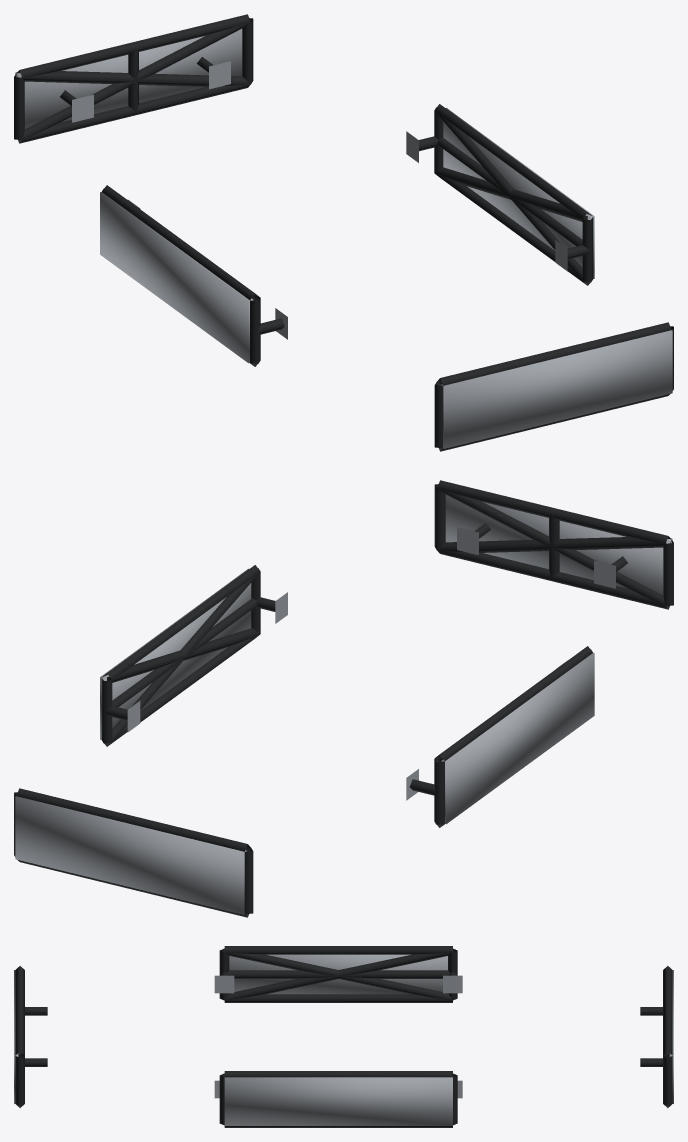
File: volnar_bolota_protecao.glb
3 views of the same model, one above another, from view 1: azimuth 30°, elevation 25°; view 2: azimuth 150°, elevation 25°; view 3: azimuth 270°, elevation 25° (orthographic). The views are drawn at different scales.
Parts seen in each view (by area): view 1: Protection_front_Level3_Details, Protection_left_Level3_Details, Protection_rear_Level1_Details, Protection_rear_Level3_Details, Protection_right_Level1_Details, Protection_rear_Level2_Details, Protection_right_Level2_Details, Protection_right_Level3_Details, Protection_front_Level1_Details, Protection_left_Level1_Details; view 2: Protection_rear_Level3_Details, Protection_left_Level3_Details, Protection_front_Level1_Details, Protection_front_Level3_Details, Protection_right_Level1_Details, Protection_front_Level2_Details, Protection_right_Level2_Details, Protection_right_Level3_Details, Protection_rear_Level1_Details, Protection_left_Level1_Details; view 3: Protection_right_Level3_Details, Protection_left_Level1_Details, Protection_left_Level2_Details, Protection_left_Level3_Details, Protection_right_Level1_Details, Protection_rear_Level1_Details, Protection_front_Level1_Details.
Part boxes in pixels (bbox=[...]): Protection_front_Level3_Details: bbox=[441, 330, 672, 448]; Protection_left_Level3_Details: bbox=[100, 192, 253, 363]; Protection_rear_Level1_Details: bbox=[14, 14, 253, 143]; Protection_rear_Level3_Details: bbox=[15, 29, 242, 128]; Protection_right_Level1_Details: bbox=[406, 104, 593, 285]; Protection_rear_Level2_Details: bbox=[16, 22, 250, 142]; Protection_right_Level2_Details: bbox=[434, 111, 591, 284]; Protection_right_Level3_Details: bbox=[443, 107, 594, 278]; Protection_front_Level1_Details: bbox=[434, 322, 673, 451]; Protection_left_Level1_Details: bbox=[102, 185, 287, 366]; Protection_rear_Level3_Details: bbox=[15, 796, 246, 914]; Protection_left_Level3_Details: bbox=[441, 653, 594, 824]; Protection_front_Level1_Details: bbox=[434, 480, 673, 609]; Protection_front_Level3_Details: bbox=[445, 495, 672, 594]; Protection_right_Level1_Details: bbox=[101, 565, 287, 746]; Protection_front_Level2_Details: bbox=[437, 488, 671, 608]; Protection_right_Level2_Details: bbox=[103, 572, 260, 746]; Protection_right_Level3_Details: bbox=[100, 568, 251, 739]; Protection_rear_Level1_Details: bbox=[14, 788, 253, 917]; Protection_left_Level1_Details: bbox=[406, 646, 592, 827]; Protection_right_Level3_Details: bbox=[224, 1077, 452, 1125]; Protection_left_Level1_Details: bbox=[214, 946, 462, 1002]; Protection_left_Level2_Details: bbox=[224, 949, 453, 1000]; Protection_left_Level3_Details: bbox=[229, 954, 447, 994]; Protection_right_Level1_Details: bbox=[214, 1071, 462, 1127]; Protection_rear_Level1_Details: bbox=[640, 966, 672, 1107]; Protection_front_Level1_Details: bbox=[15, 966, 47, 1107].
Bounding box in the file's own units: 1.74 × 0.354 × 3.73.
1 material, 1 textured.
